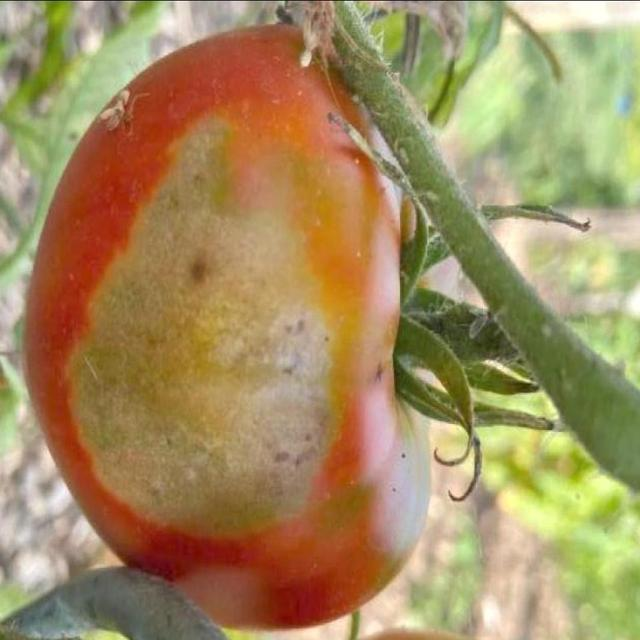Sunscald Fruit: (49, 70, 245, 383)
